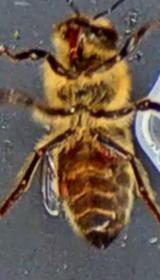varroa_mite: (52, 160, 98, 199)
